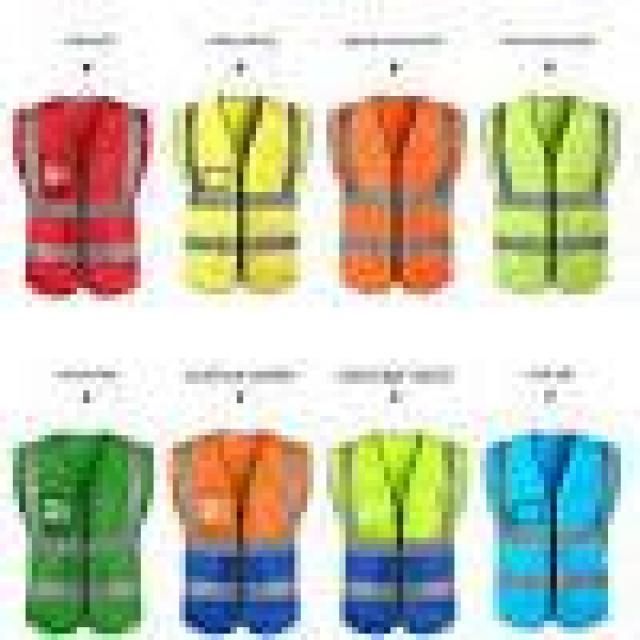reflective_jacket: (474, 82, 634, 314), (3, 424, 155, 636), (319, 89, 469, 303), (321, 430, 474, 634), (164, 423, 308, 639), (10, 90, 156, 302), (171, 87, 316, 296), (480, 428, 624, 634)
